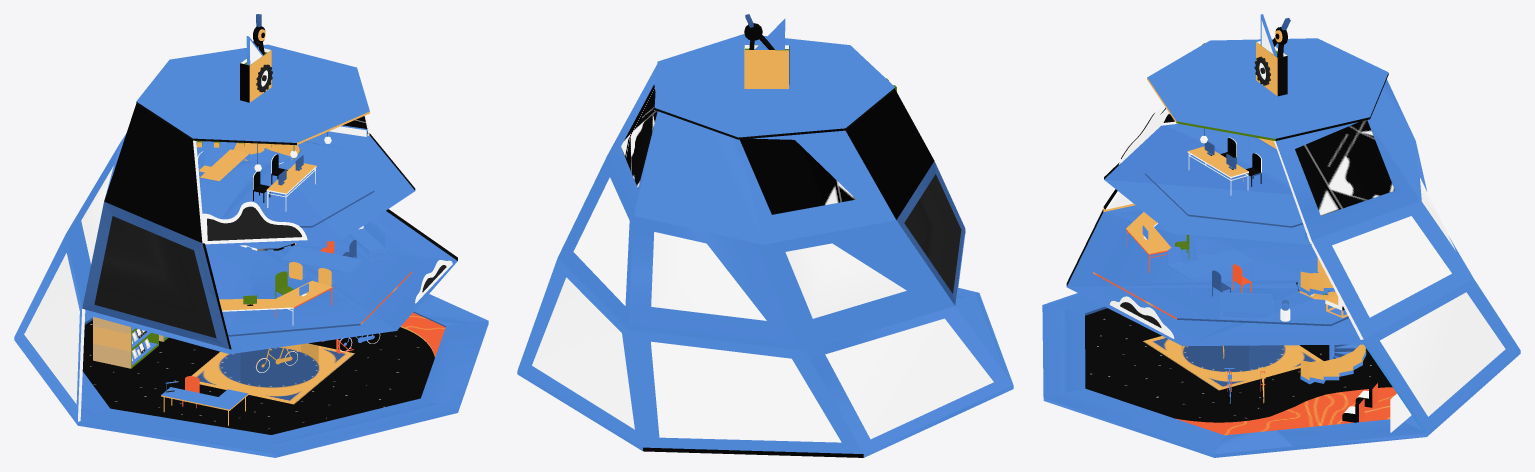
3 renders of one model, left to right at view 1: azimuth 30°, elevation 25°; view 2: azimuth 150°, elevation 25°; view 3: azimuth 270°, elevation 25°, orthographic. The views are drawn at different scales.
Parts seen in each view (by area): view 1: 建筑_1, 立方体_1_3, 书架_1, 挤压_2, table_14_3, table_14_2, table_19, 挤压_1, 立方体_4_3, 立方体_2_2, table_14, 封顶_1_4_2 (+4 smaller); view 2: 建筑_1, 立方体_2_2; view 3: 建筑_1, 立方体_1_3, 封顶_1_4_2, step_glass_1, table_14_2, 立方体_4_3, table_14_3, 立方体_2_2, step, table_14_1, 挤压_3, 封顶_1_4 (+2 smaller).
Boxes of the visible parts, <box> form: 建筑_1: <box>14,44,488,457</box>; 立方体_1_3: <box>191,343,354,404</box>; 书架_1: <box>93,316,158,368</box>; 挤压_2: <box>207,206,302,240</box>; table_14_3: <box>219,280,332,325</box>; table_14_2: <box>281,246,362,290</box>; table_19: <box>161,387,248,425</box>; 挤压_1: <box>202,201,307,244</box>; 立方体_4_3: <box>348,218,390,254</box>; 立方体_2_2: <box>240,48,271,102</box>; table_14: <box>199,149,249,198</box>; 封顶_1_4_2: <box>400,312,445,357</box>; 建筑_1: <box>517,34,1013,457</box>; 立方体_2_2: <box>744,45,789,88</box>; 建筑_1: <box>1042,38,1520,457</box>; 立方体_1_3: <box>1143,336,1323,390</box>; 封顶_1_4_2: <box>1175,387,1396,435</box>; step_glass_1: <box>1300,258,1365,380</box>; table_14_2: <box>1171,249,1254,297</box>; 立方体_4_3: <box>1219,292,1273,313</box>; table_14_3: <box>1126,212,1171,272</box>; 立方体_2_2: <box>1256,41,1287,96</box>; step: <box>1297,244,1366,384</box>; table_14_1: <box>1187,146,1248,195</box>; 挤压_3: <box>1109,296,1174,338</box>; 封顶_1_4: <box>1254,18,1290,85</box>.
Bounding box in the file's own units: 1753 × 1350 × 1711.
